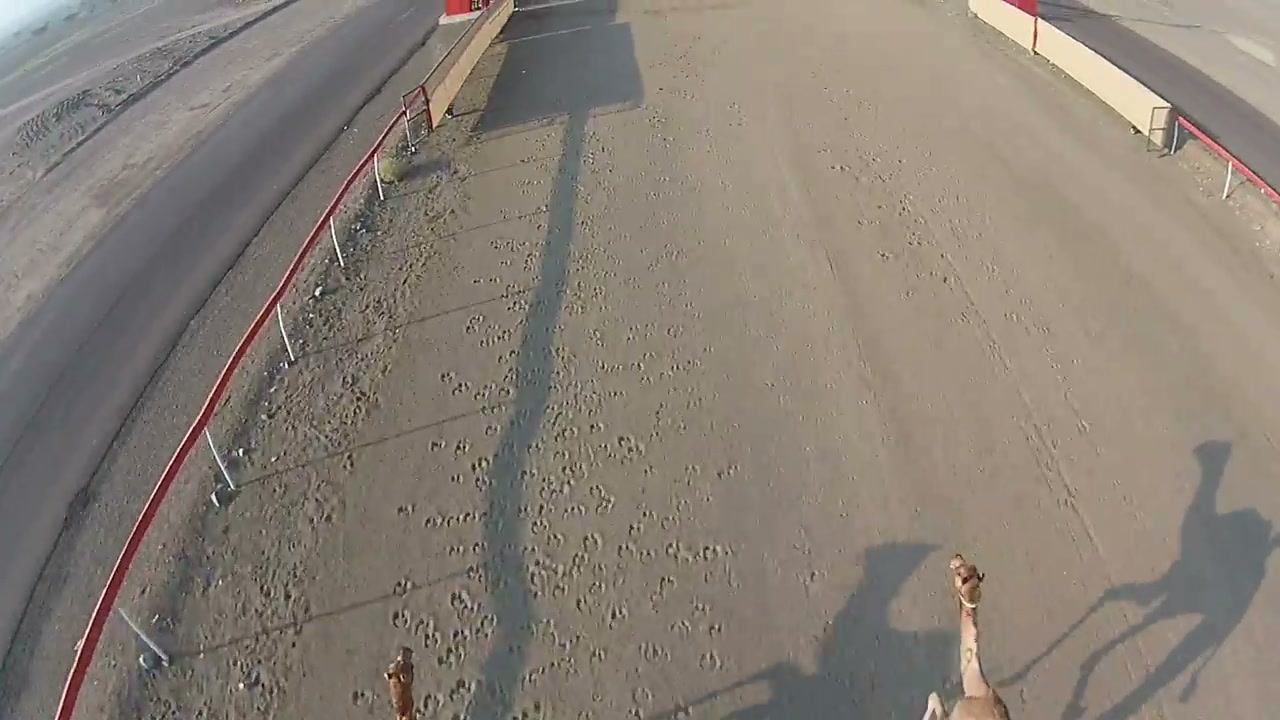animal_footprint: (406, 149, 677, 695)
